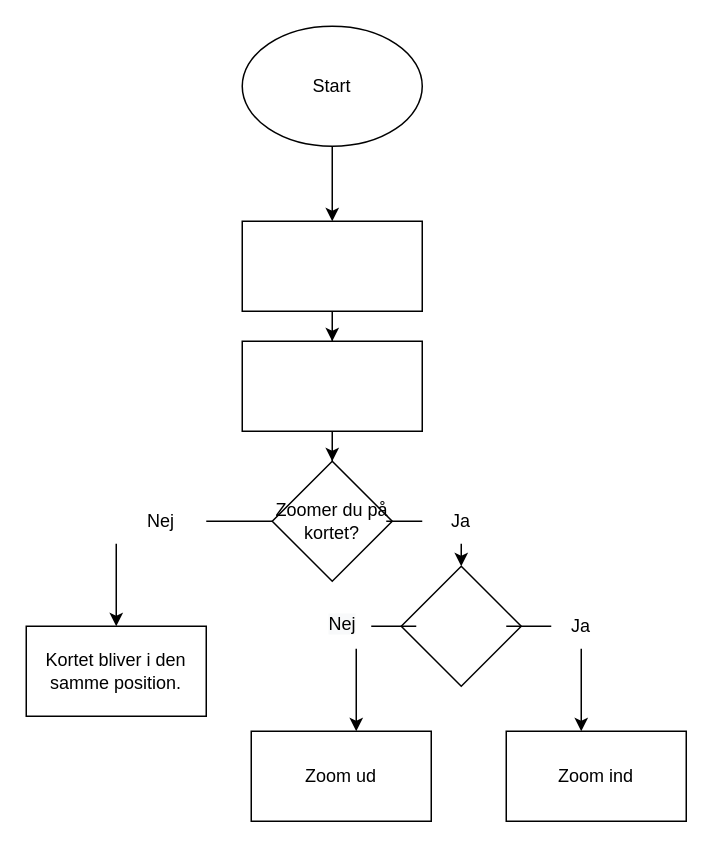
Some shapes in this 713 by 848 pixel diagram are drawn without their labels. Here are the shapes that lost their labels. From the top down, the centre of each, then its label:
At point 331,265: "Hent billede fra udvalget af forkellige billeder.".
At point 331,385: "Vis billede på skærm, sammen med kort af EUC Syd.".
At point 460,625: "Zoomer du ind på kortet?".
